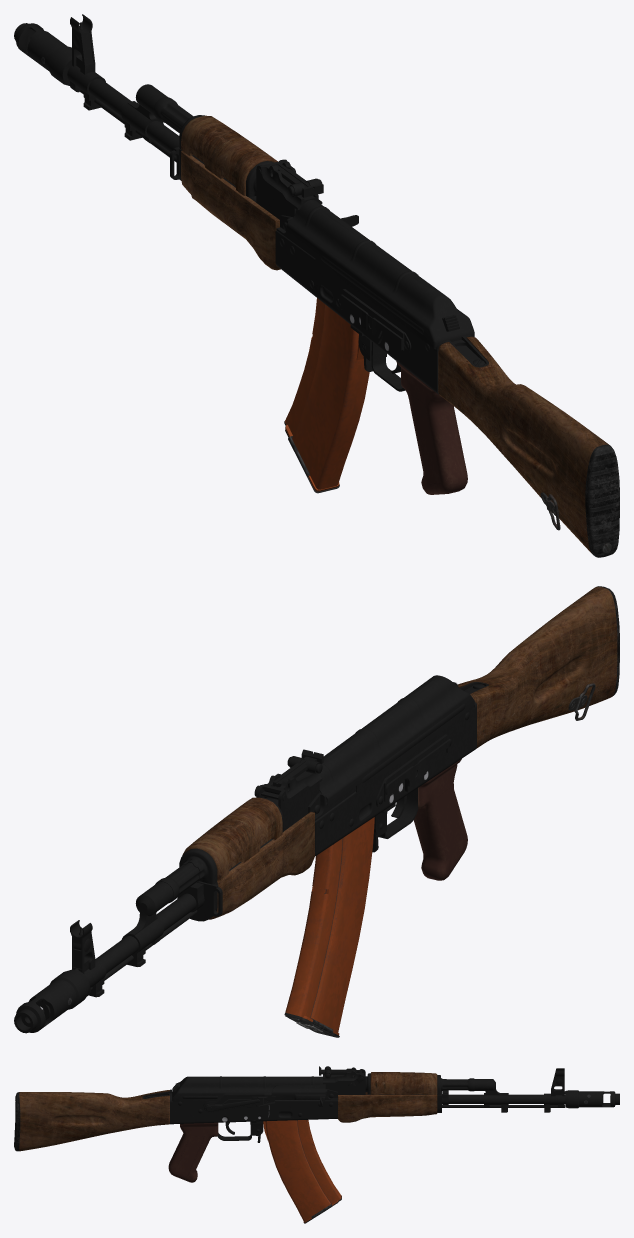
The model's file is ak74_wood.glb.
3 views of the same model, one above another, from view 1: azimuth 30°, elevation 25°; view 2: azimuth 150°, elevation 25°; view 3: azimuth 270°, elevation 25° (orthographic). The views are drawn at different scales.
Parts seen in each view (by area): view 1: AK-74_body_Material.008_0, AK-74_wooden_stock_M_wooden_furniture2_0, AK-74_bak_mag30_Material.012_0, AK-74_wooden_furniture_M_wooden_furniture2_0, AK-74_grip.001_M_wooden_furniture2_0, side_rail_Material.008_0; view 2: AK-74_body_Material.008_0, AK-74_wooden_stock_M_wooden_furniture2_0, AK-74_bak_mag30_Material.012_0, AK-74_wooden_furniture_M_wooden_furniture2_0, AK-74_grip.001_M_wooden_furniture2_0, side_rail_Material.008_0; view 3: AK-74_body_Material.008_0, AK-74_wooden_stock_M_wooden_furniture2_0, AK-74_bak_mag30_Material.012_0, AK-74_wooden_furniture_M_wooden_furniture2_0, AK-74_grip.001_M_wooden_furniture2_0.
Part boxes in pixels (x1,y1,x2,y2): AK-74_body_Material.008_0: (14,14,488,394); AK-74_wooden_stock_M_wooden_furniture2_0: (438,336,619,557); AK-74_bak_mag30_Material.012_0: (284,298,369,493); AK-74_wooden_furniture_M_wooden_furniture2_0: (181,115,280,270); AK-74_grip.001_M_wooden_furniture2_0: (396,361,467,494); side_rail_Material.008_0: (335,289,411,352); AK-74_body_Material.008_0: (14,675,488,1033); AK-74_wooden_stock_M_wooden_furniture2_0: (457,586,619,748); AK-74_bak_mag30_Material.012_0: (284,817,374,1037); AK-74_wooden_furniture_M_wooden_furniture2_0: (182,797,314,919); AK-74_grip.001_M_wooden_furniture2_0: (413,759,467,880); side_rail_Material.008_0: (376,734,451,807); AK-74_body_Material.008_0: (142,1066,619,1142); AK-74_wooden_stock_M_wooden_furniture2_0: (14,1090,169,1151); AK-74_bak_mag30_Material.012_0: (263,1120,341,1223); AK-74_wooden_furniture_M_wooden_furniture2_0: (338,1072,437,1122); AK-74_grip.001_M_wooden_furniture2_0: (168,1122,218,1182).
Size of the model in its own units: 0.0682 by 0.2612 by 0.9415.
Materials: 3 (3 with a texture image).
